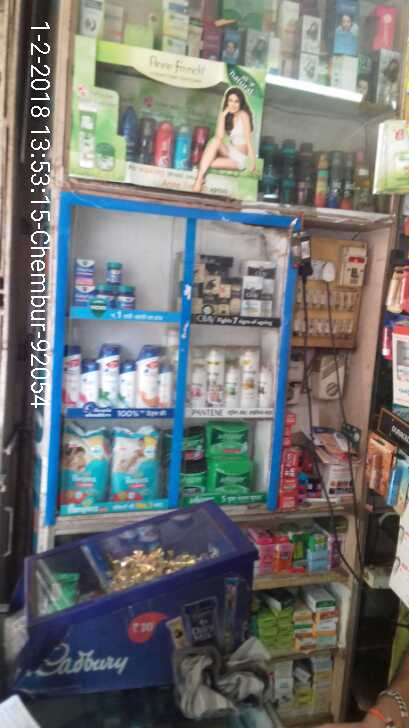vicks: (73, 256, 138, 308)
